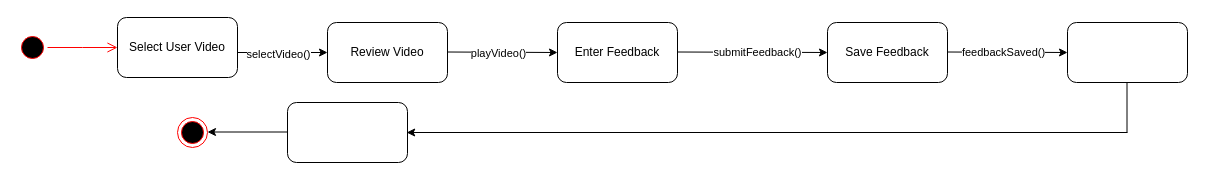
The diagram is 1205 pixels wide and 180 high, and some of its shapes have lost their labels. The shapes that lost their labels are listed below. From the top down, each one's centre as x and y in pixels, then its label:
At pixel 1127 52: "Notify User".
At pixel 347 132: "Feedback Available".
